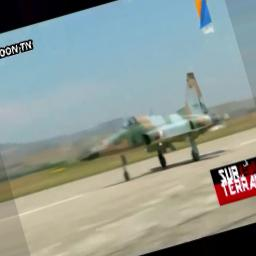Airplane: (77, 71, 231, 183)
